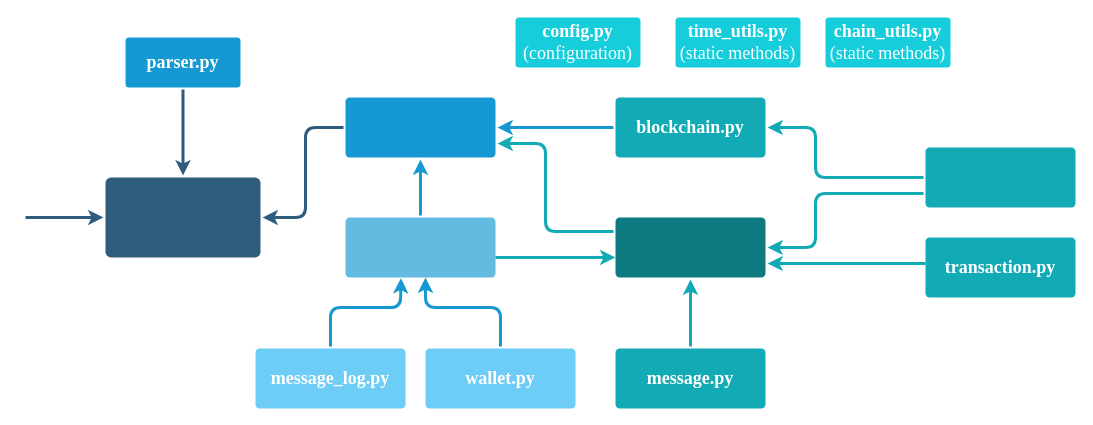
The diagram is 1093 pixels wide and 425 high, and some of its shapes have lost their labels. The centre of each missing label's shape, as x and y in pixels:
"bio_blockchain.py" goes at [420,127].
"block.py" goes at [1000,177].
"main.py" goes at [182,217].
"node.py" goes at [420,247].
"pbft.py" goes at [690,247].
